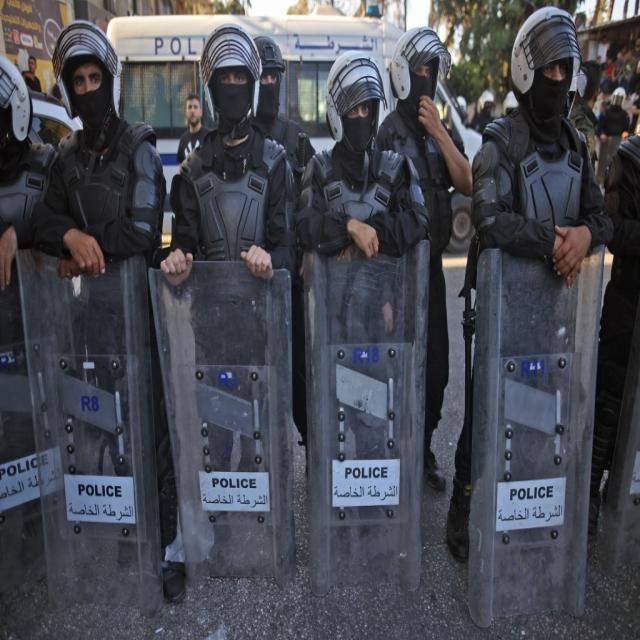police: (454, 0, 606, 640), (162, 1, 302, 572), (29, 14, 158, 620), (299, 14, 423, 636), (383, 0, 475, 640)
